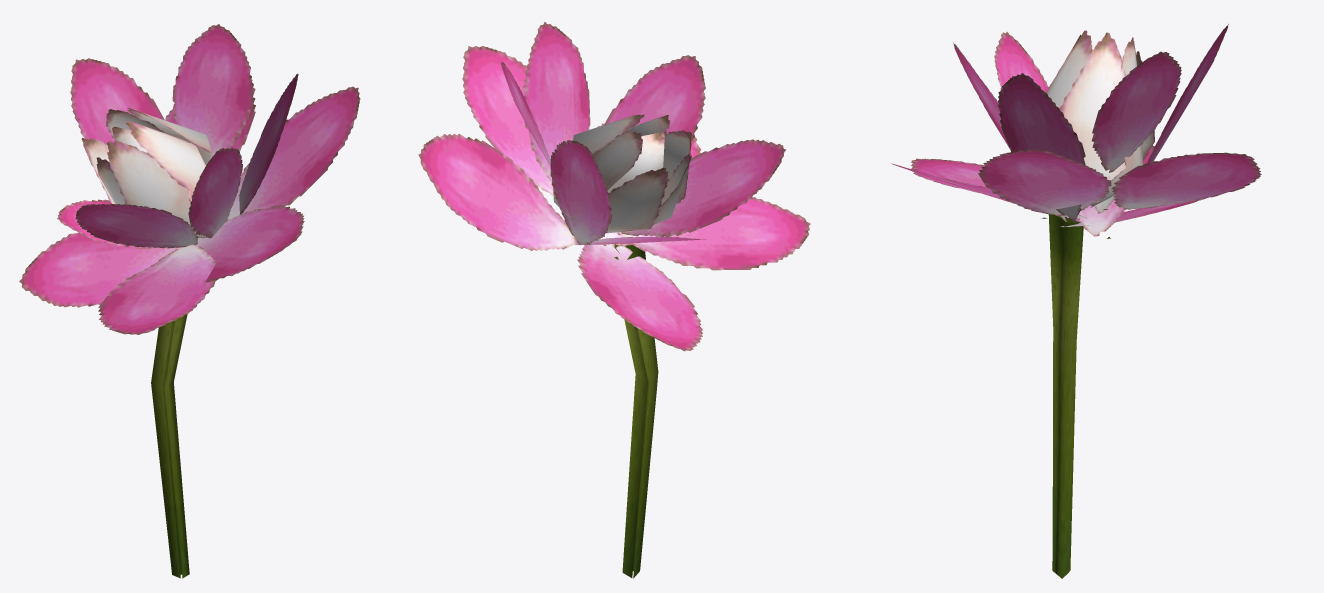
File: LotusL03_hua.FBX
3 views of the same model, side by side, from view 1: azimuth 30°, elevation 25°; view 2: azimuth 150°, elevation 25°; view 3: azimuth 270°, elevation 25° (orthographic). The views are drawn at different scales.
Parts seen in each view (by area): view 1: Lotus03; view 2: Lotus03; view 3: Lotus03.
Boxes of the visible parts, left/top/right/bottom form: Lotus03: left=19, top=24, right=360, bottom=578; Lotus03: left=418, top=22, right=810, bottom=578; Lotus03: left=891, top=24, right=1261, bottom=578.
Size of the model in its own units: 104 by 108 by 152.
